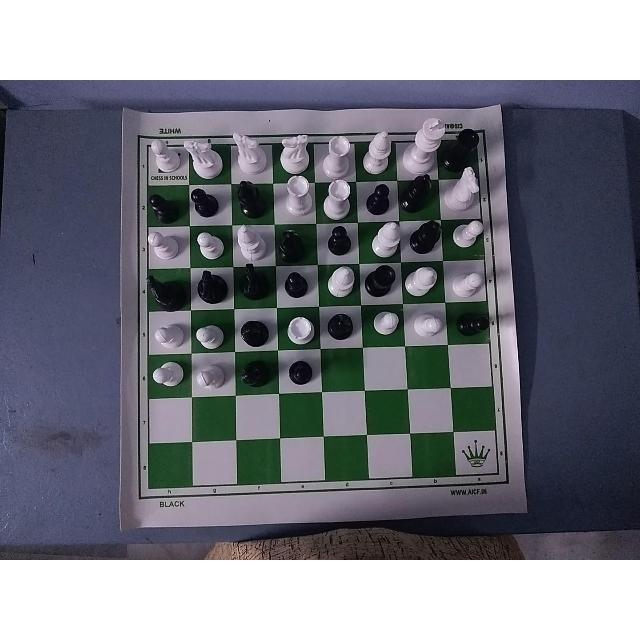black-bishop: (403, 171, 442, 212), (405, 217, 445, 256), (236, 311, 272, 351), (327, 306, 361, 346), (242, 353, 273, 395), (277, 227, 311, 264), (234, 179, 269, 213)
black-knight: (145, 270, 183, 313), (195, 263, 227, 310), (236, 265, 269, 307)
black-pawn: (362, 180, 396, 224), (455, 305, 493, 344), (146, 183, 185, 220), (322, 225, 358, 259), (284, 353, 314, 393), (282, 269, 315, 303), (190, 188, 220, 224)
black-rook: (364, 260, 399, 304), (452, 123, 486, 163)
white-bishop: (359, 127, 395, 173), (321, 259, 360, 301), (404, 262, 443, 302), (236, 220, 266, 259), (368, 222, 403, 254)
white-king: (402, 115, 449, 167)
white-knight: (186, 124, 227, 179), (448, 167, 486, 213), (277, 133, 315, 176), (233, 128, 269, 172)
white-pawn: (145, 129, 183, 179), (191, 312, 231, 352), (189, 358, 228, 398), (149, 355, 185, 397), (451, 213, 487, 254), (145, 227, 184, 263), (368, 309, 404, 347), (452, 259, 486, 299), (189, 226, 230, 257), (411, 309, 446, 345), (147, 316, 183, 350)
white-rook: (279, 178, 316, 225), (321, 179, 357, 223), (280, 307, 317, 349), (320, 129, 351, 178)
